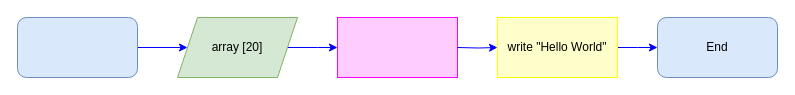
Image size: 795x95. Some labels were removed from this diagram. Here are the shapes that lost their labels. From the top down, the centre of each, then its label:
[77,47]: Start
[397,47]: coppy "Hello World"
